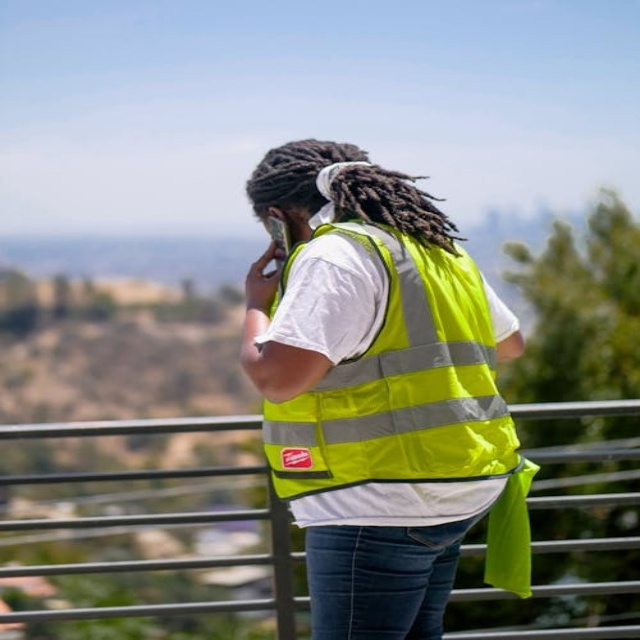Sin_guantes: (233, 235, 289, 309)
